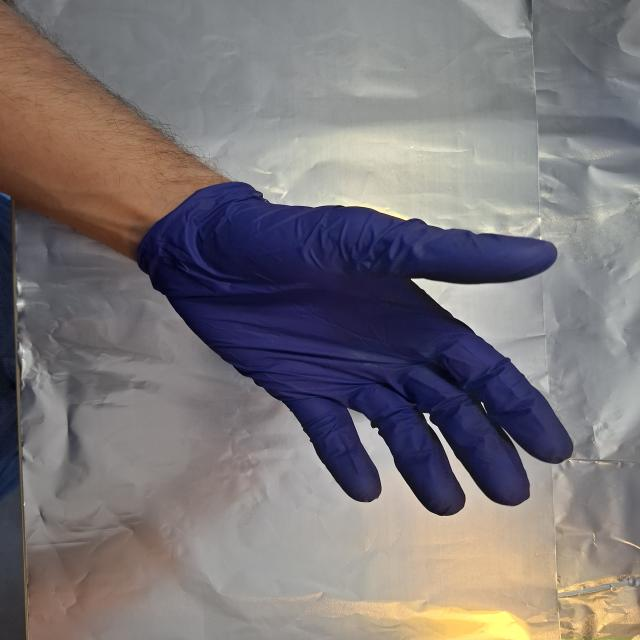glove_on: (137, 177, 578, 519)
